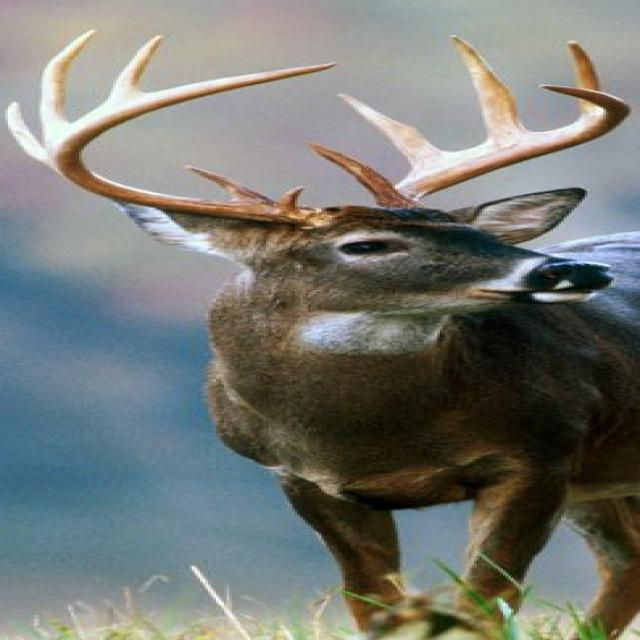L-F: (375, 83, 633, 209)
L-G1: (303, 143, 395, 198)
L-G2: (333, 92, 447, 173)
L-G3: (448, 31, 530, 143)
R-F: (46, 61, 339, 233)
R-G1: (278, 180, 308, 209)
R-G2: (174, 162, 275, 204)
R-G3: (2, 97, 42, 165)
R-G4: (34, 24, 104, 147)
R-G5: (102, 30, 168, 102)
